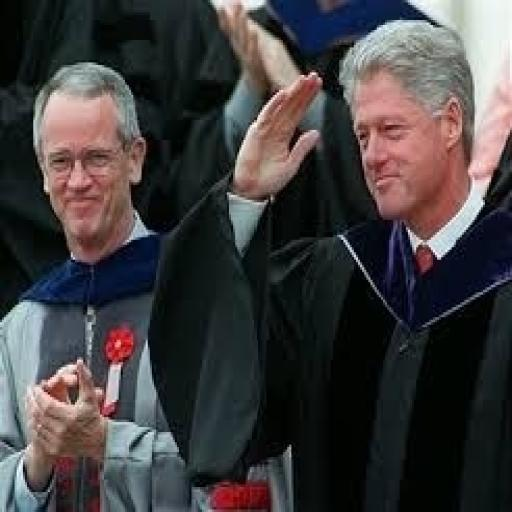clapping: (146, 15, 510, 509), (0, 60, 194, 509)
